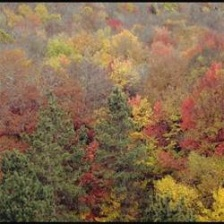neutral: (6, 5, 222, 219)
